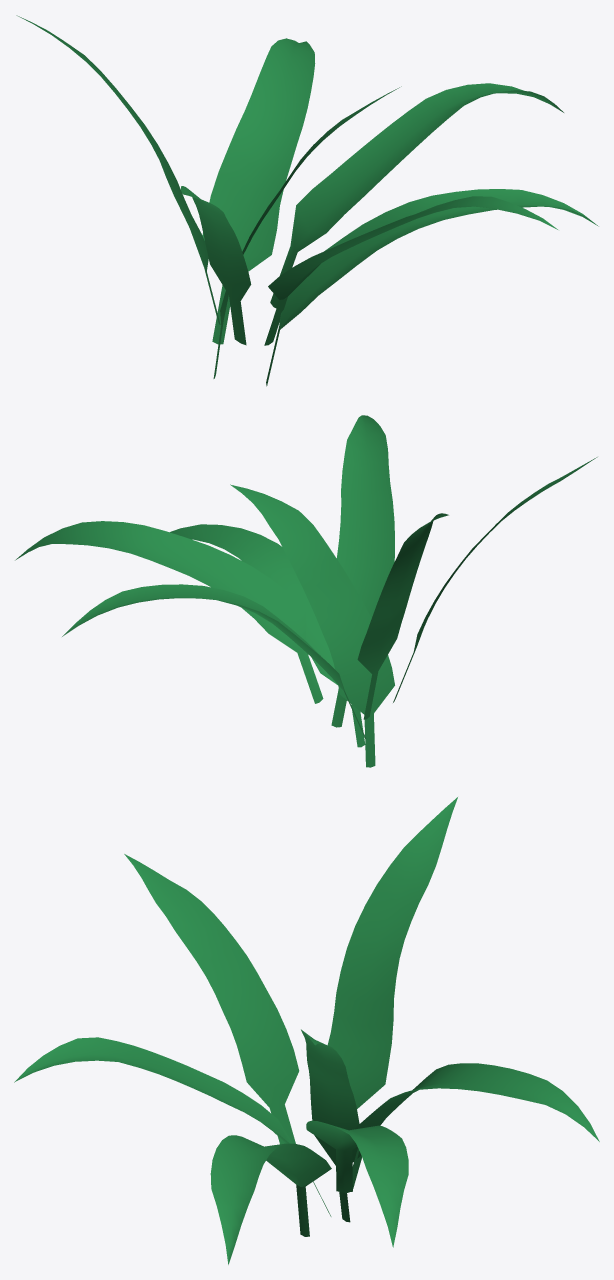
The model's file is plant_bush_G.fbx.
3 renders of one model, top to bottom at view 1: azimuth 30°, elevation 25°; view 2: azimuth 150°, elevation 25°; view 3: azimuth 270°, elevation 25°, orthographic. The views are drawn at different scales.
Visible parts, largest first — view 1: plant_bush_G_leaf_B, plant_bush_G_leaf_E, plant_bush_G_leaf_D, plant_bush_G_leaf_F, plant_bush_G_leaf_C, plant_bush_G_leaf_A, plant_bush_G_leaf_G; view 2: plant_bush_G_leaf_G, plant_bush_G_leaf_E, plant_bush_G_leaf_C, plant_bush_G_leaf_D, plant_bush_G_leaf_A, plant_bush_G_leaf_B, plant_bush_G_leaf_F; view 3: plant_bush_G_leaf_A, plant_bush_G_leaf_F, plant_bush_G_leaf_D, plant_bush_G_leaf_C, plant_bush_G_leaf_E, plant_bush_G_leaf_B, plant_bush_G_leaf_G.
Boxes of the visible parts, bbox=[...] form: plant_bush_G_leaf_B: bbox=[202, 38, 315, 344]; plant_bush_G_leaf_E: bbox=[270, 83, 563, 308]; plant_bush_G_leaf_D: bbox=[266, 189, 598, 386]; plant_bush_G_leaf_F: bbox=[181, 186, 251, 345]; plant_bush_G_leaf_C: bbox=[264, 196, 557, 345]; plant_bush_G_leaf_A: bbox=[16, 15, 220, 324]; plant_bush_G_leaf_G: bbox=[213, 86, 401, 378]; plant_bush_G_leaf_G: bbox=[230, 484, 394, 767]; plant_bush_G_leaf_E: bbox=[15, 521, 323, 703]; plant_bush_G_leaf_C: bbox=[331, 415, 394, 727]; plant_bush_G_leaf_D: bbox=[170, 524, 365, 747]; plant_bush_G_leaf_A: bbox=[357, 513, 448, 719]; plant_bush_G_leaf_B: bbox=[62, 584, 366, 739]; plant_bush_G_leaf_F: bbox=[393, 457, 597, 702]; plant_bush_G_leaf_A: bbox=[327, 797, 457, 1108]; plant_bush_G_leaf_F: bbox=[124, 854, 299, 1144]; plant_bush_G_leaf_D: bbox=[210, 1135, 331, 1264]; plant_bush_G_leaf_C: bbox=[14, 1037, 331, 1216]; plant_bush_G_leaf_E: bbox=[306, 1120, 408, 1247]; plant_bush_G_leaf_B: bbox=[345, 1063, 599, 1193]; plant_bush_G_leaf_G: bbox=[301, 1029, 361, 1222].
Bounding box in the file's own units: 55.28 × 36.5 × 54.51.
